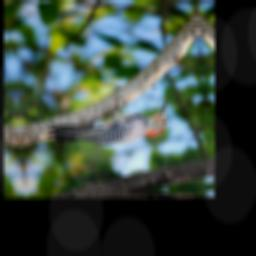Woodpecker: (42, 93, 171, 148)
